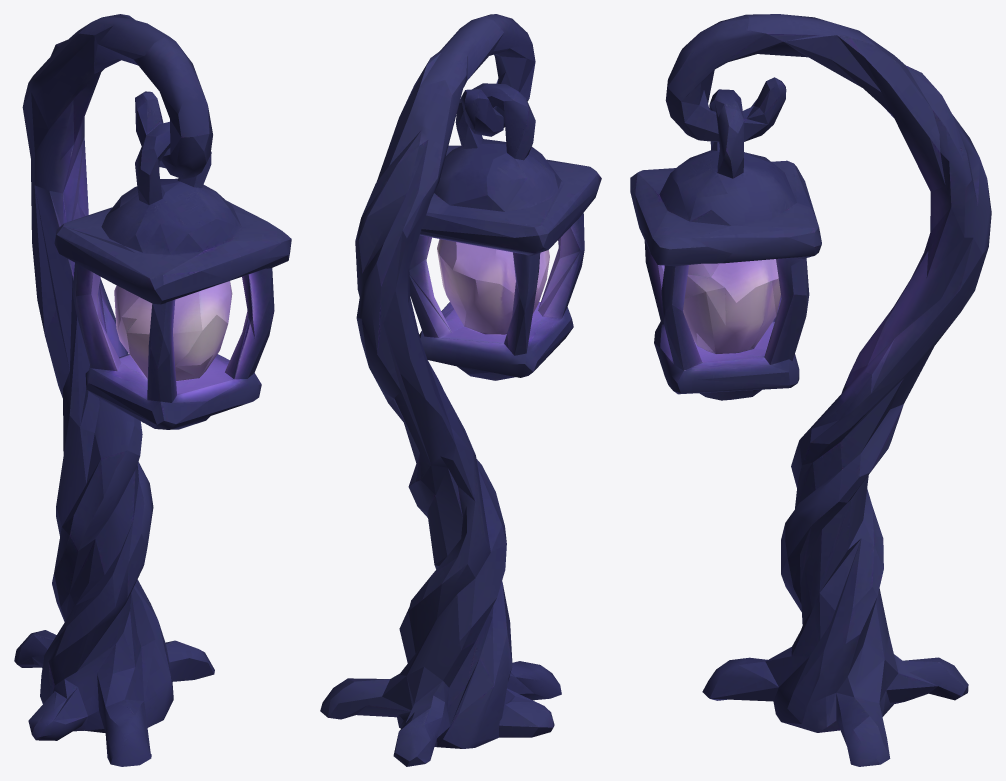
The model's file is lamppost.glb.
3 views of the same model, side by side, from view 1: azimuth 30°, elevation 25°; view 2: azimuth 150°, elevation 25°; view 3: azimuth 270°, elevation 25° (orthographic). The views are drawn at different scales.
Size of the model in its own units: 0.5954 by 1.9 by 0.8914.
Materials: 1 (1 with a texture image).
